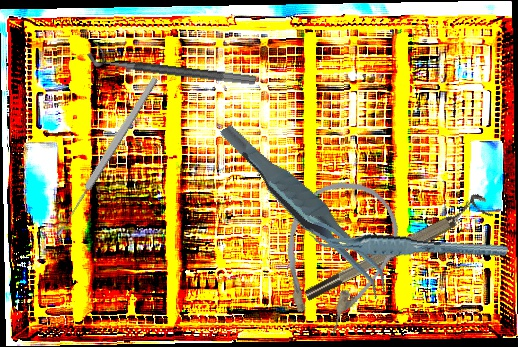Cannula: (260, 166, 412, 346)
Fixation Ring: (298, 190, 494, 305), (86, 40, 258, 87)
Surgical Spoon: (53, 75, 160, 239)
Tissue Forceps: (217, 97, 395, 323), (307, 210, 509, 280)
